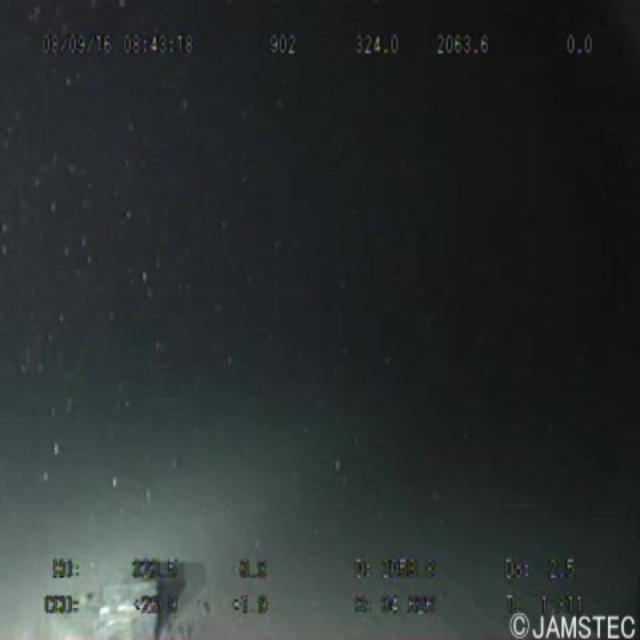Glass: (80, 557, 169, 640)
